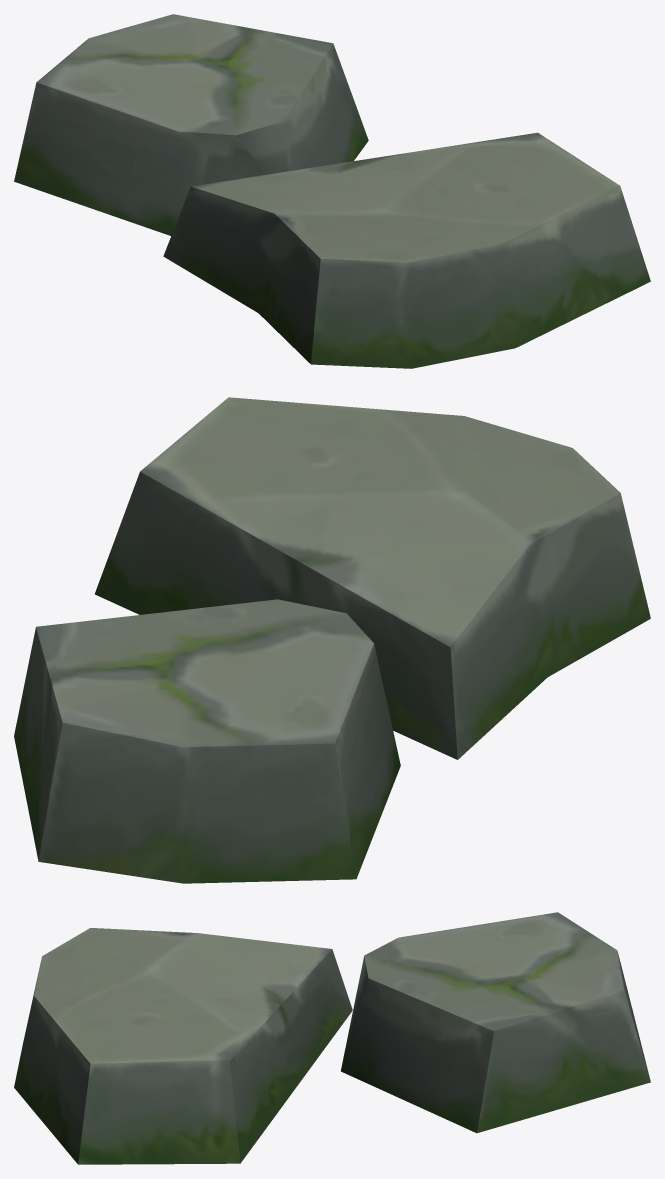
File: scene_lawennushandao_stone07a.FBX
3 renders of one model, top to bottom at view 1: azimuth 30°, elevation 25°; view 2: azimuth 150°, elevation 25°; view 3: azimuth 270°, elevation 25°, orthographic. The views are drawn at different scales.
Visible parts, largest first — view 1: scene_lawennushandao_stone07a; view 2: scene_lawennushandao_stone07a; view 3: scene_lawennushandao_stone07a.
Part boxes in pixels (left/top/right/bottom): scene_lawennushandao_stone07a: left=14, top=14, right=650, bottom=368; scene_lawennushandao_stone07a: left=14, top=397, right=650, bottom=883; scene_lawennushandao_stone07a: left=14, top=912, right=650, bottom=1164.
Bounding box in the file's own units: 126 × 31.2 × 199.
